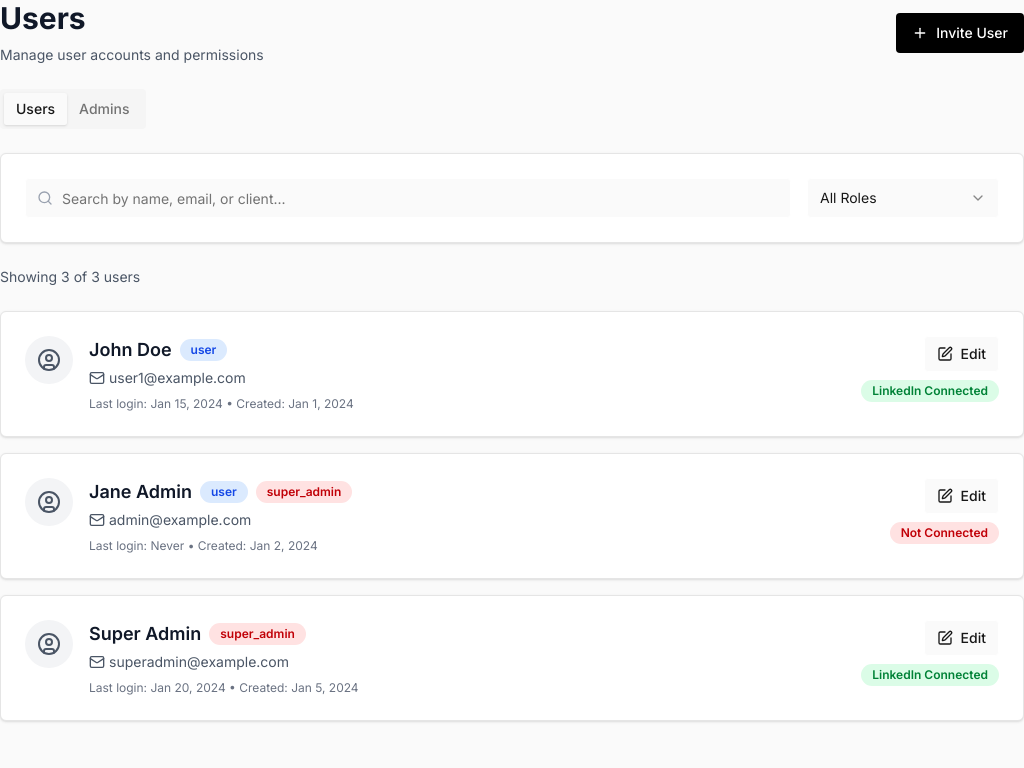
Test: AdminUsersPage - Multi-Role Functionality › 2. Multi-Role Checkbox Tests › should load edit modal with both roles checked for multi-role user
Expected: the heading "John Doe" is shown, [89,336,172,364]
Note: Edit second user in the list (Jane Admin - has both roles)
Click the button "Edit" in the row of "Jane Admin": (961,496) [924,478,999,514]
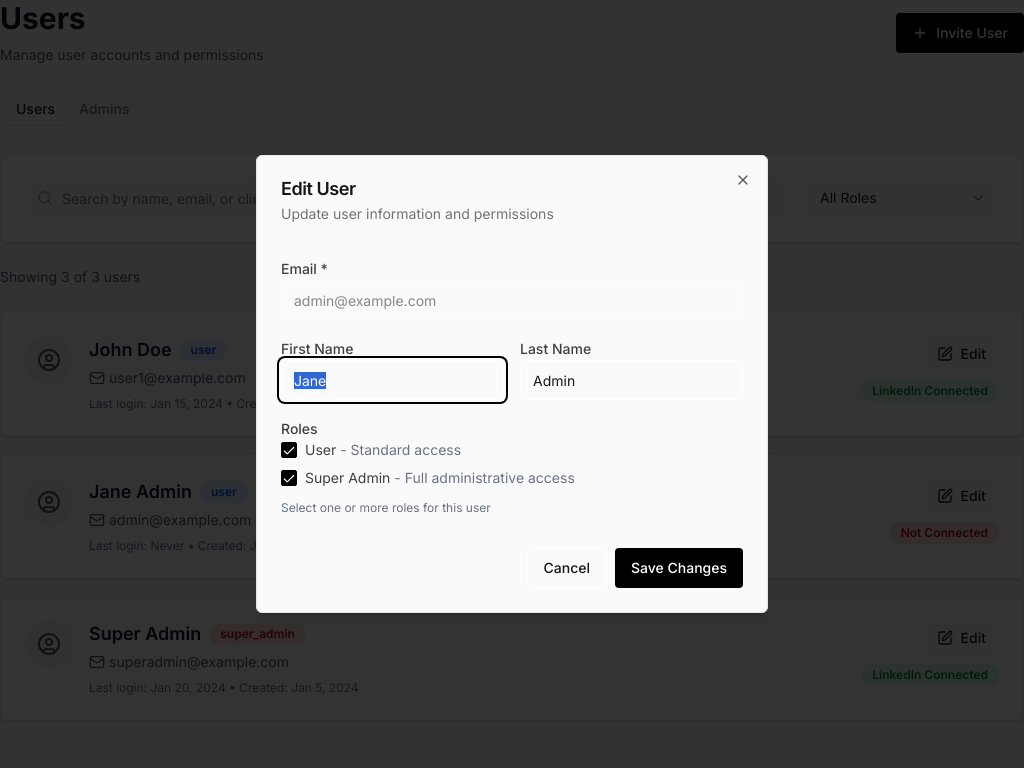
Now the dialog is shown, box [256,155,768,613]
Now the checkbox named "User" in the row of "- Standard access" is checked, box [281,442,297,458]
Now the checkbox named "Super Admin" in the row of "- Full administrative access" is checked, box [281,470,297,486]
